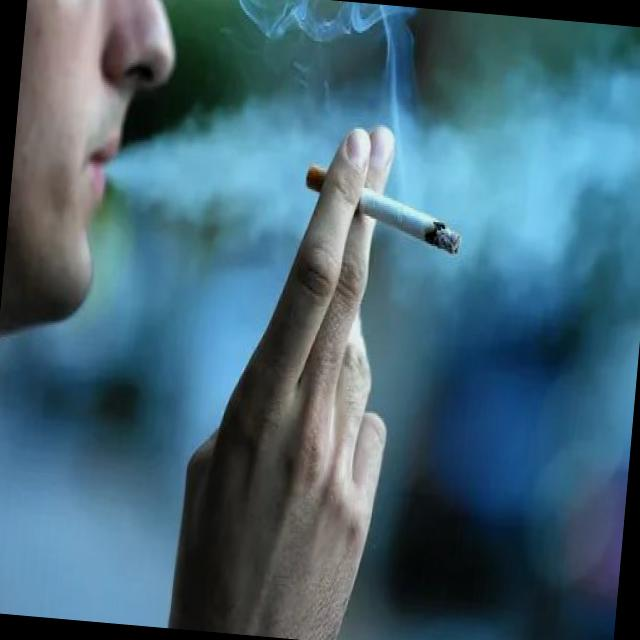smoke: (297, 156, 468, 262)
